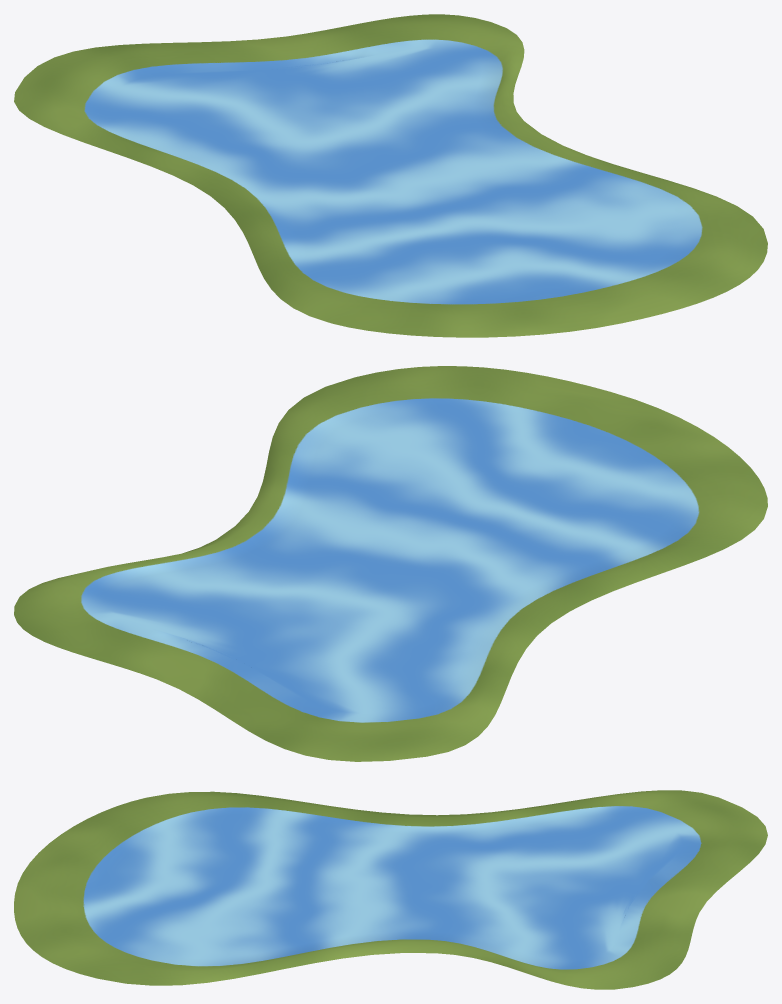
The model's file is SM_Pond_Forest_01 (1).fbx.
The picture shows the model from 3 angles, top to bottom: view 1: azimuth 30°, elevation 25°; view 2: azimuth 150°, elevation 25°; view 3: azimuth 270°, elevation 25°; orthographic projection. The views are drawn at different scales.
Parts seen in each view (by area): view 1: BézierCircle.002; view 2: BézierCircle.002; view 3: BézierCircle.002.
Boxes of the visible parts, left/top/right/bottom form: BézierCircle.002: left=14, top=14, right=767, bottom=337; BézierCircle.002: left=14, top=366, right=767, bottom=761; BézierCircle.002: left=14, top=790, right=767, bottom=989.
Size of the model in its own units: 499 by 5.69 by 796.
Materials: 1 (1 with a texture image).
